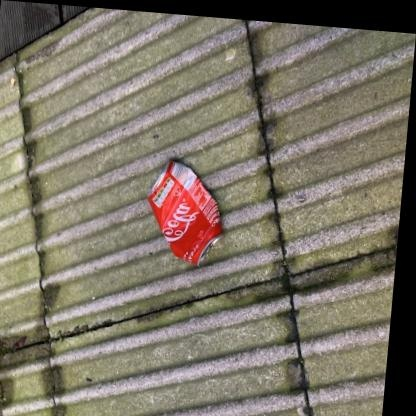trash: (148, 160, 222, 264)
